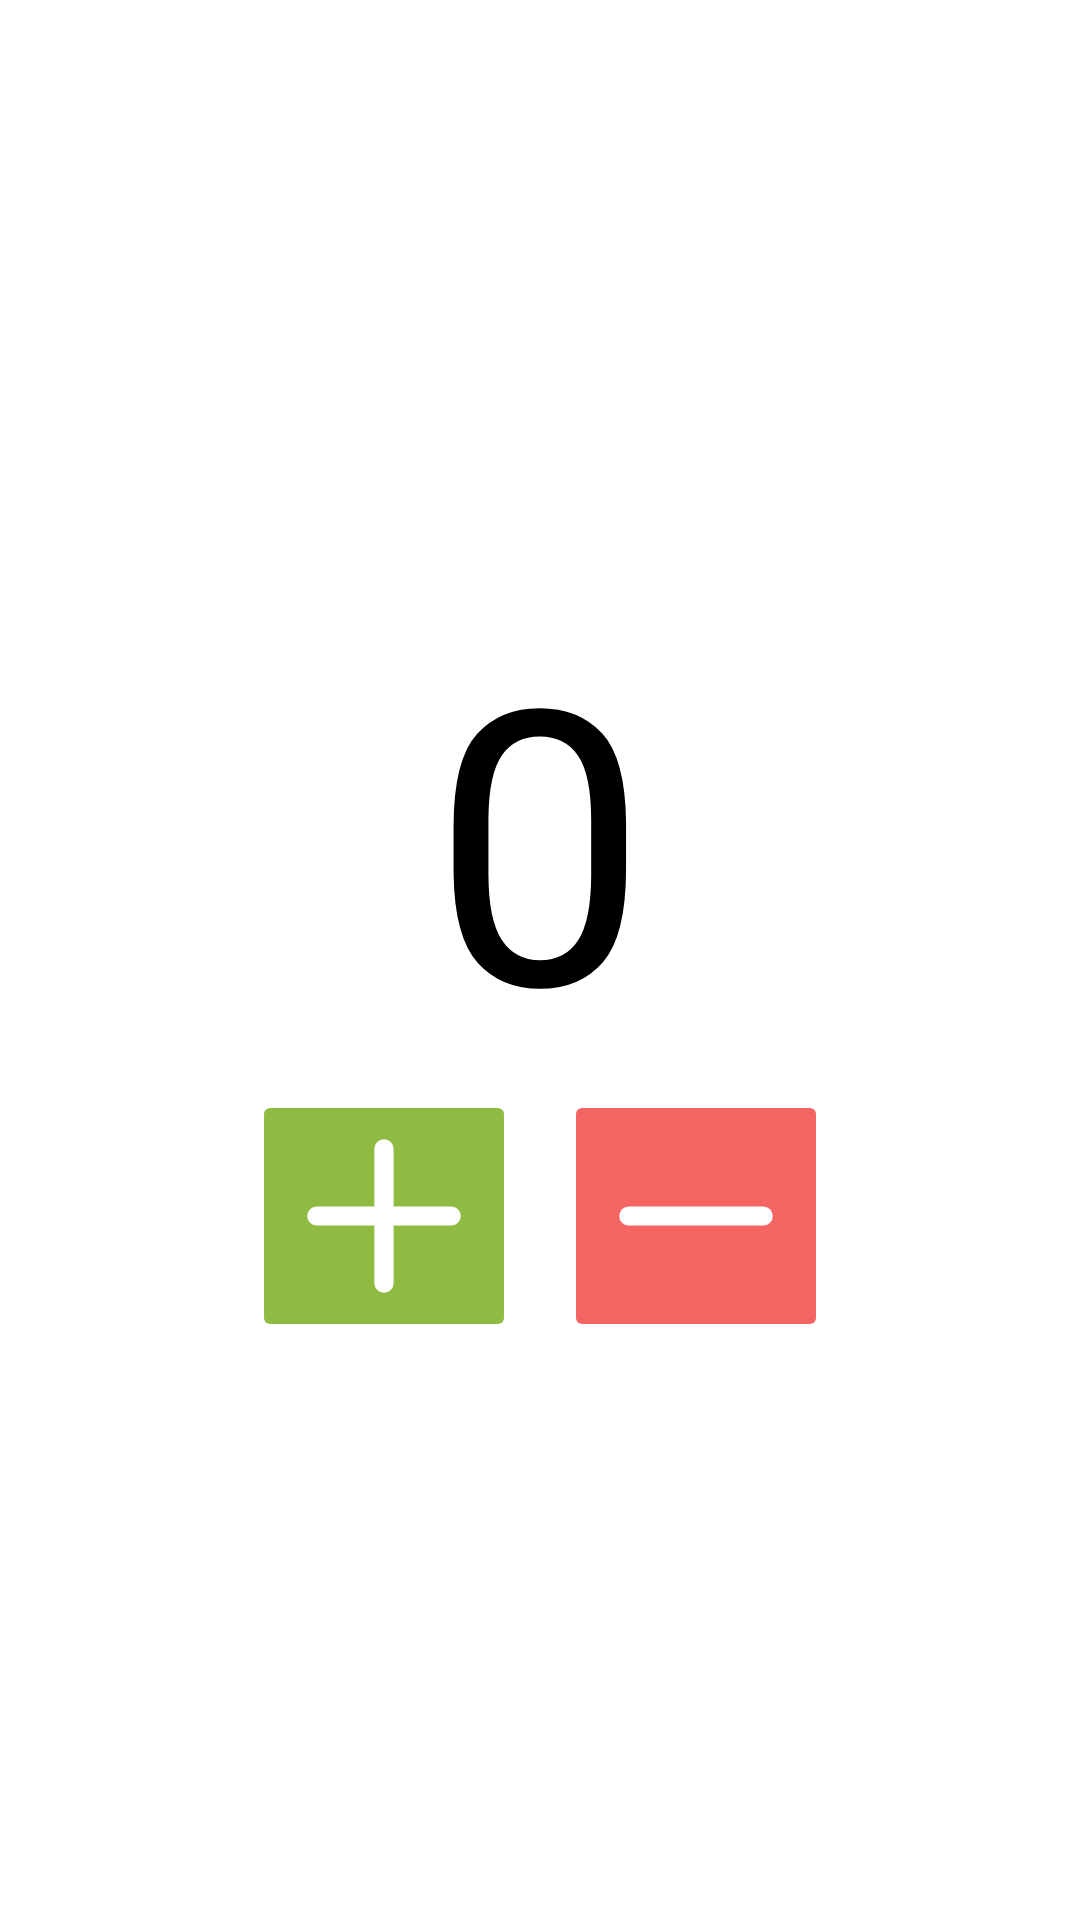

Point at icon controls on the screen. Image size 1080 × 1920, points as [x,y].
minus: [696,1216]
plus: [384,1216]
